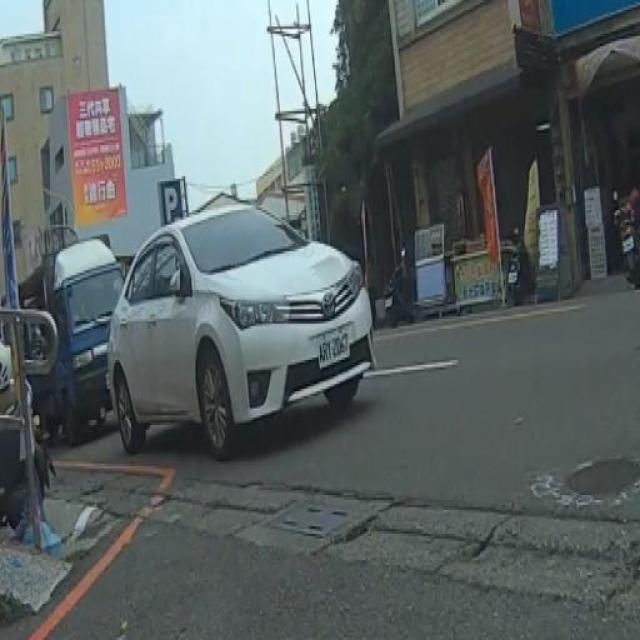Legalparking: (0, 185, 392, 462)
